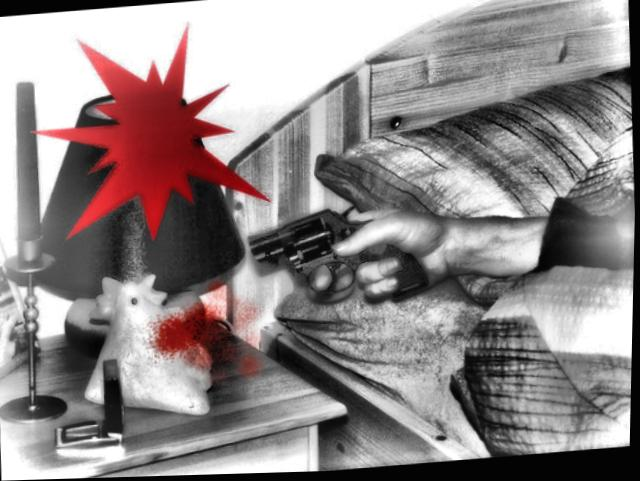pistol: (242, 199, 432, 311)
